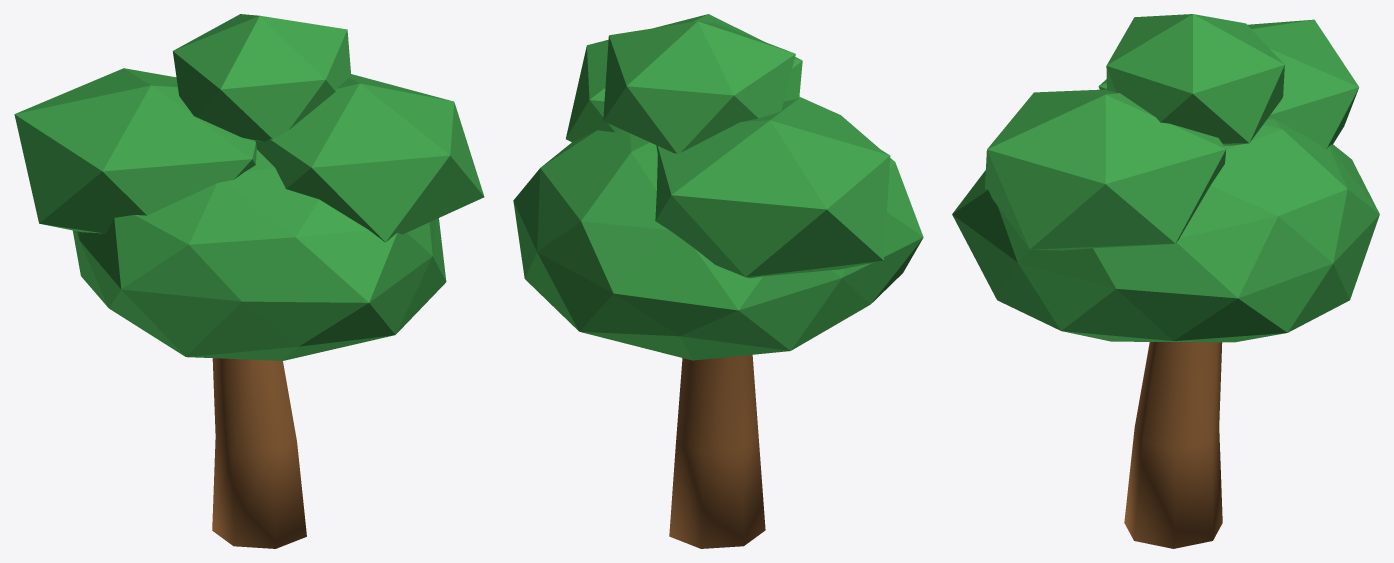
File: tree-b.glb
The picture shows the model from 3 angles, left to right: view 1: azimuth 30°, elevation 25°; view 2: azimuth 150°, elevation 25°; view 3: azimuth 270°, elevation 25°; orthographic projection. The views are drawn at different scales.
Parts seen in each view (by area): view 1: leaves, trunk; view 2: leaves, trunk; view 3: leaves, trunk.
Boxes of the visible parts, left/top/right/bottom form: leaves: left=14, top=14, right=484, bottom=360; trunk: left=212, top=358, right=306, bottom=548; leaves: left=513, top=14, right=923, bottom=360; trunk: left=669, top=354, right=765, bottom=548; leaves: left=952, top=14, right=1379, bottom=342; trunk: left=1124, top=342, right=1222, bottom=548.
Bounding box in the file's own units: 3 × 4 × 3.
